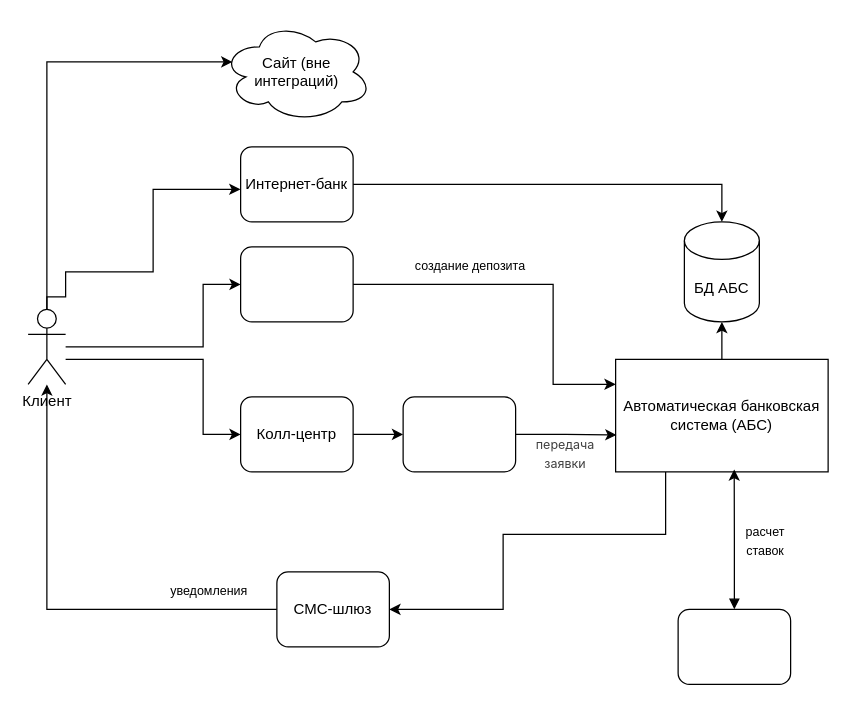
This 850x706 diagram has some shape labels left out. The centre of each missing label's shape, as x and y in pixels:
CRM: pixel 459 434
Бэк-офис: pixel 734 646
Отделение (фронт-офис): pixel 296 284
